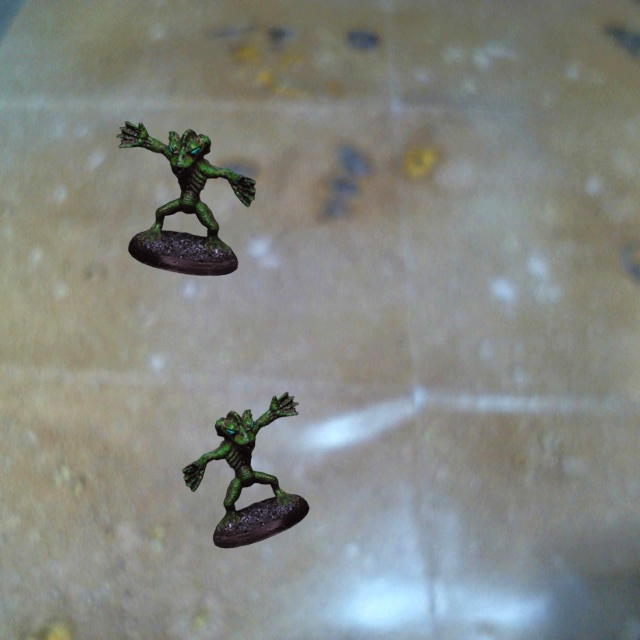pieza_juego: (116, 121, 255, 275), (182, 392, 309, 548)
